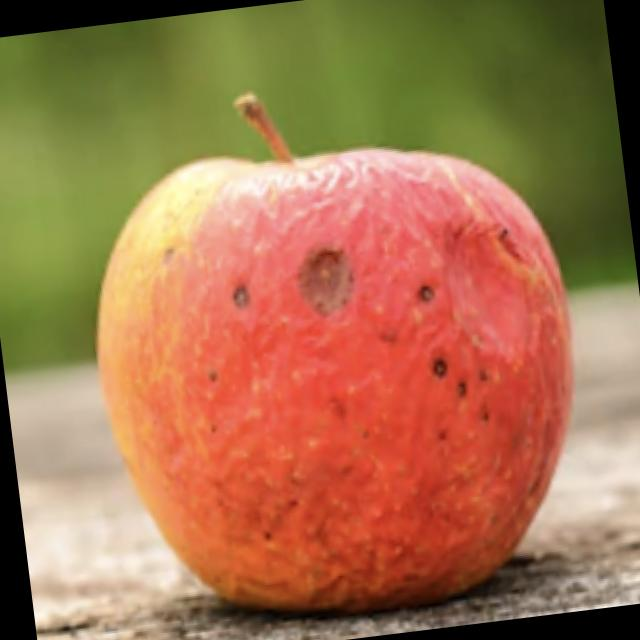rotten_apple: (64, 72, 603, 634)
